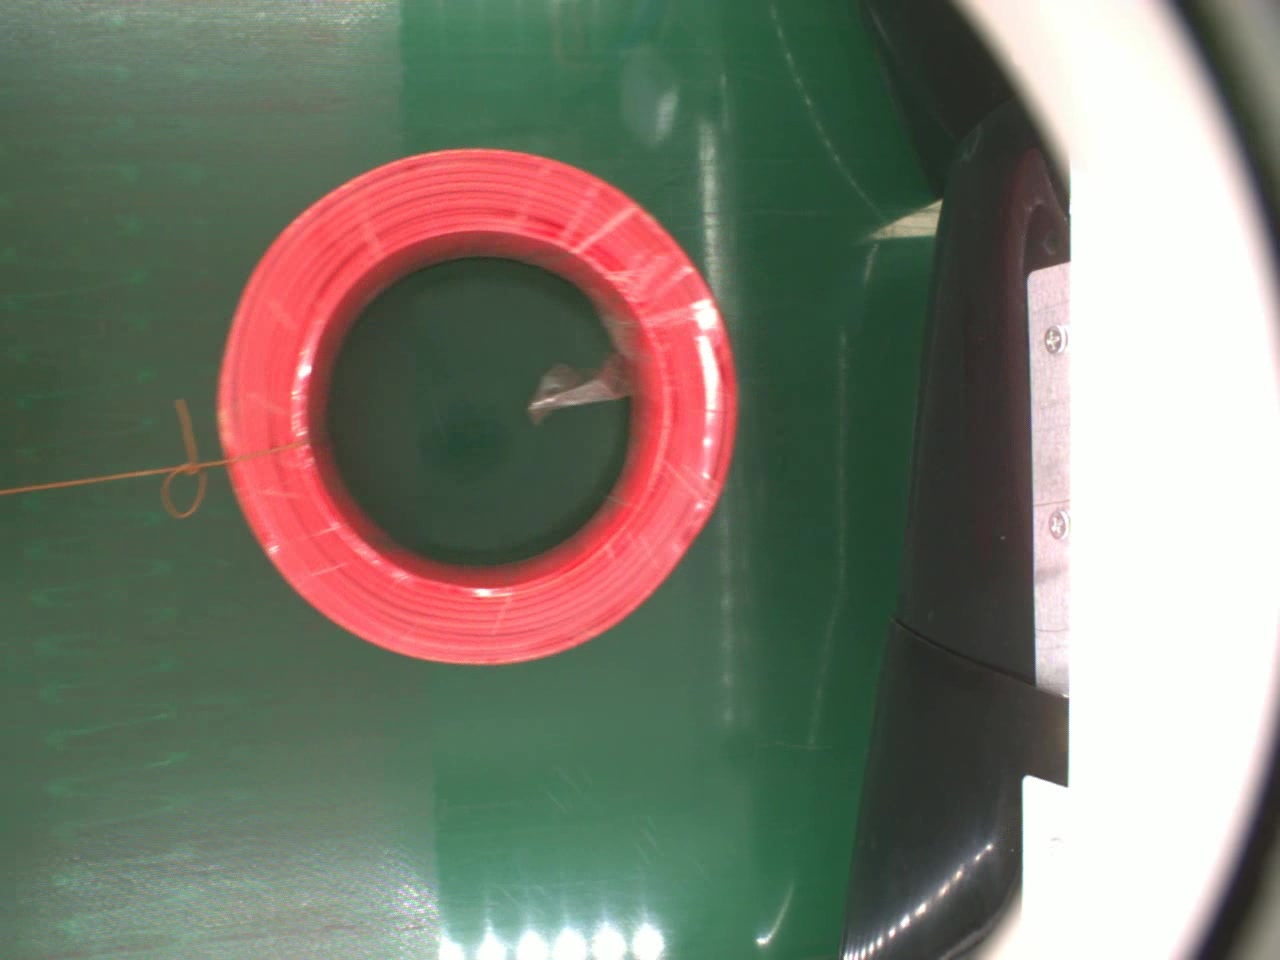red: (206, 142, 738, 668)
